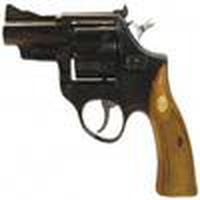gun: (3, 4, 200, 198)
